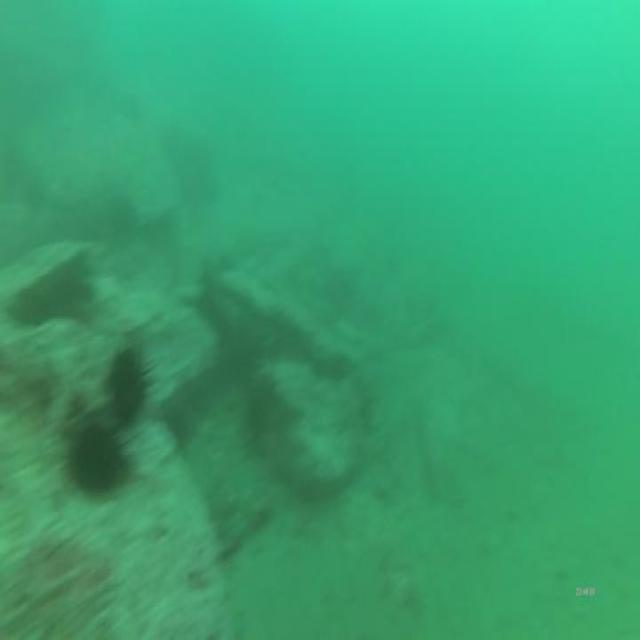echinus: (61, 417, 128, 501), (108, 342, 156, 428), (246, 380, 276, 442)
